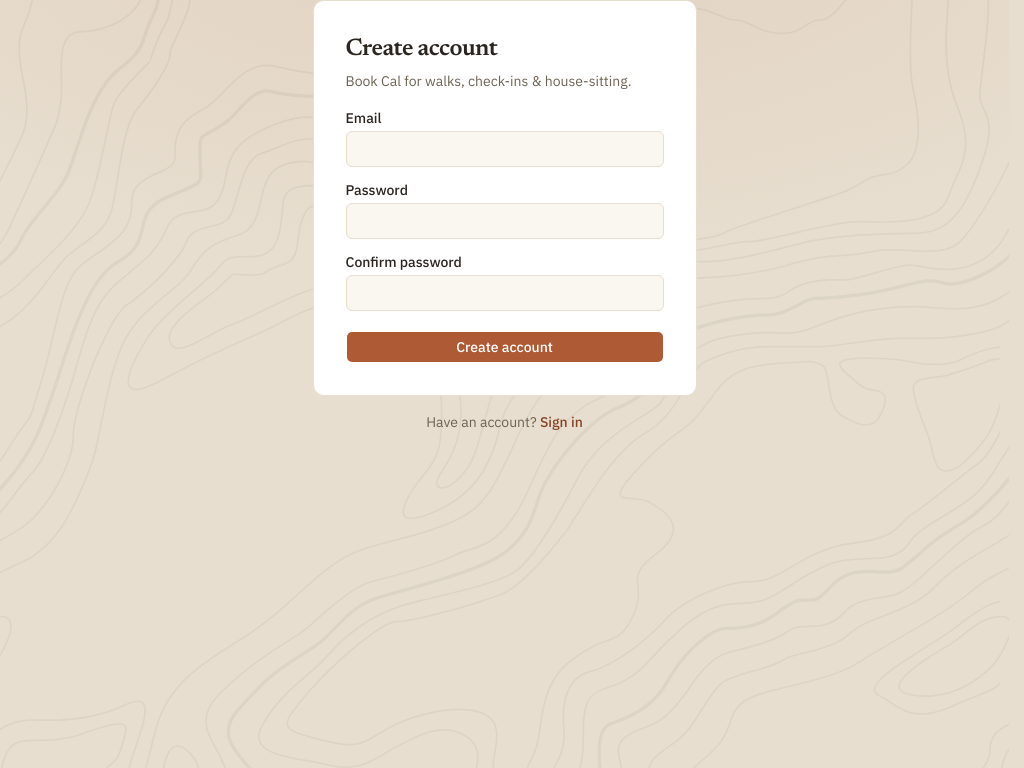
Scenario: SignupCard › shows the sent-email panel when no session comes back
Type "kiche@example.com" into the field labelled "Email". click: point(504, 149)
box: [346,131,664,167]
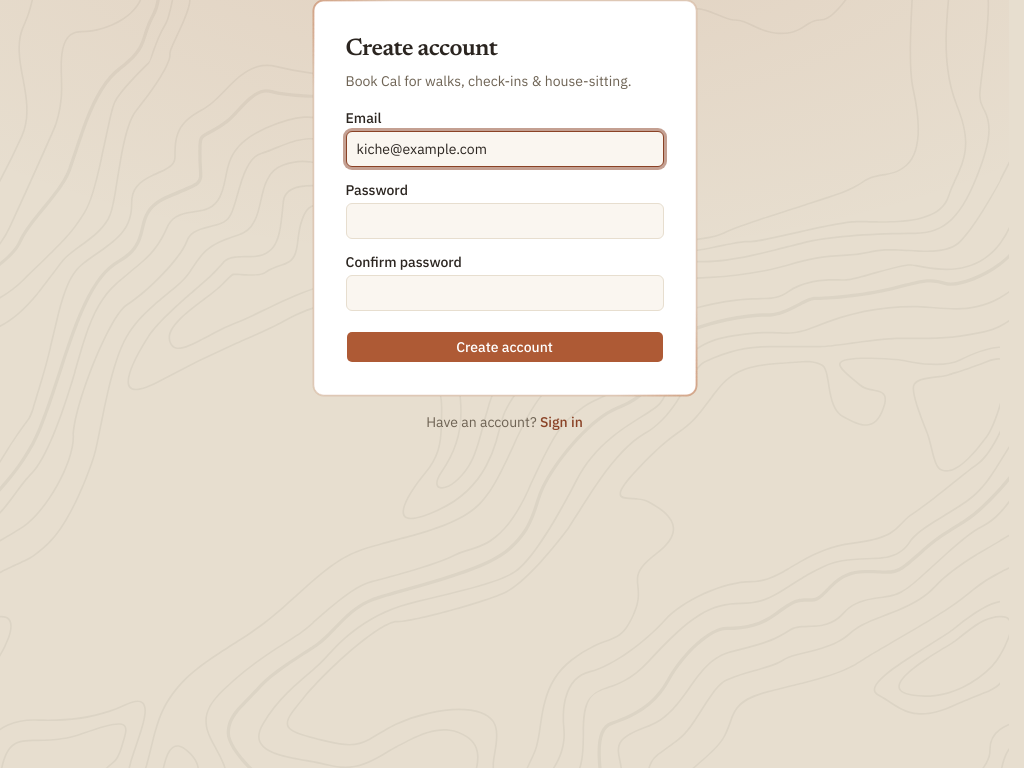
Type "password1" into the password field labelled "Password". click: point(504, 221)
box: [346,203,664,239]
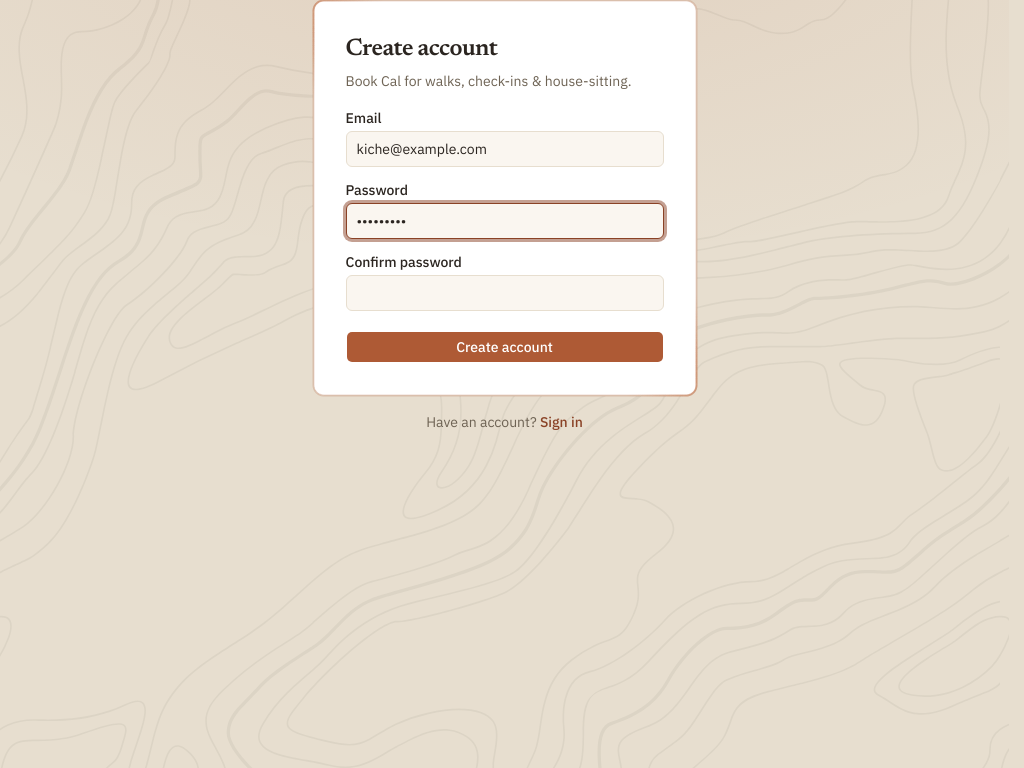
Type "password1" into the password field labelled "Confirm password". click: point(504, 293)
box: [346,275,664,311]
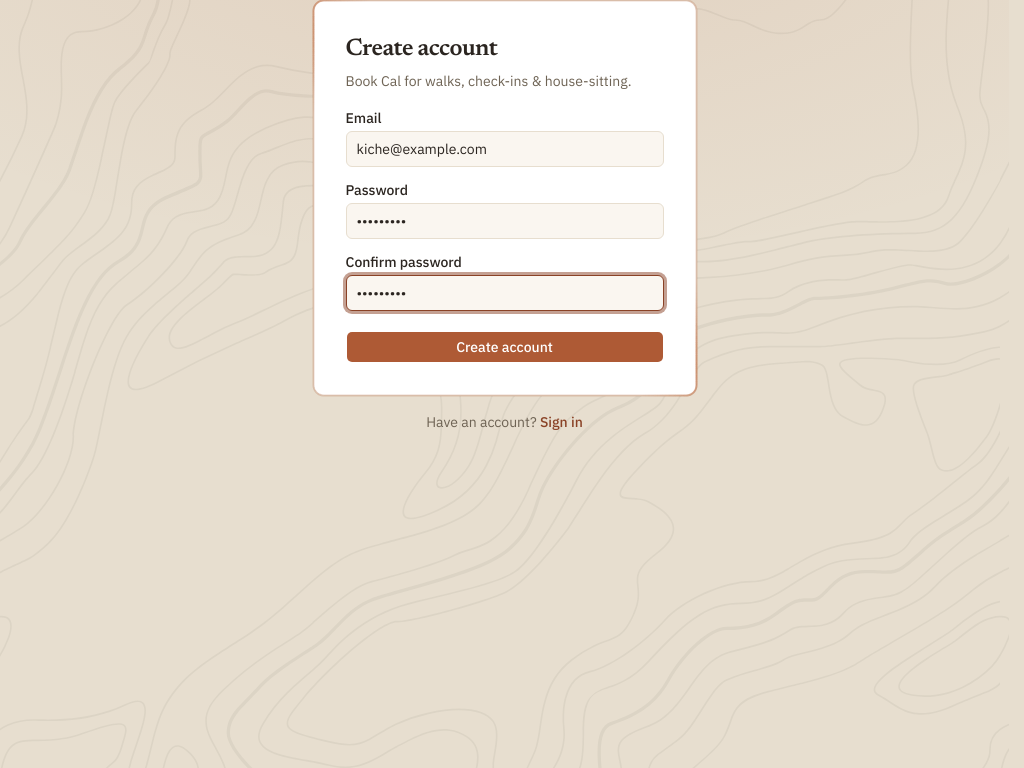
Click the button "Create account". click: point(504, 347)
box: [346,331,664,363]
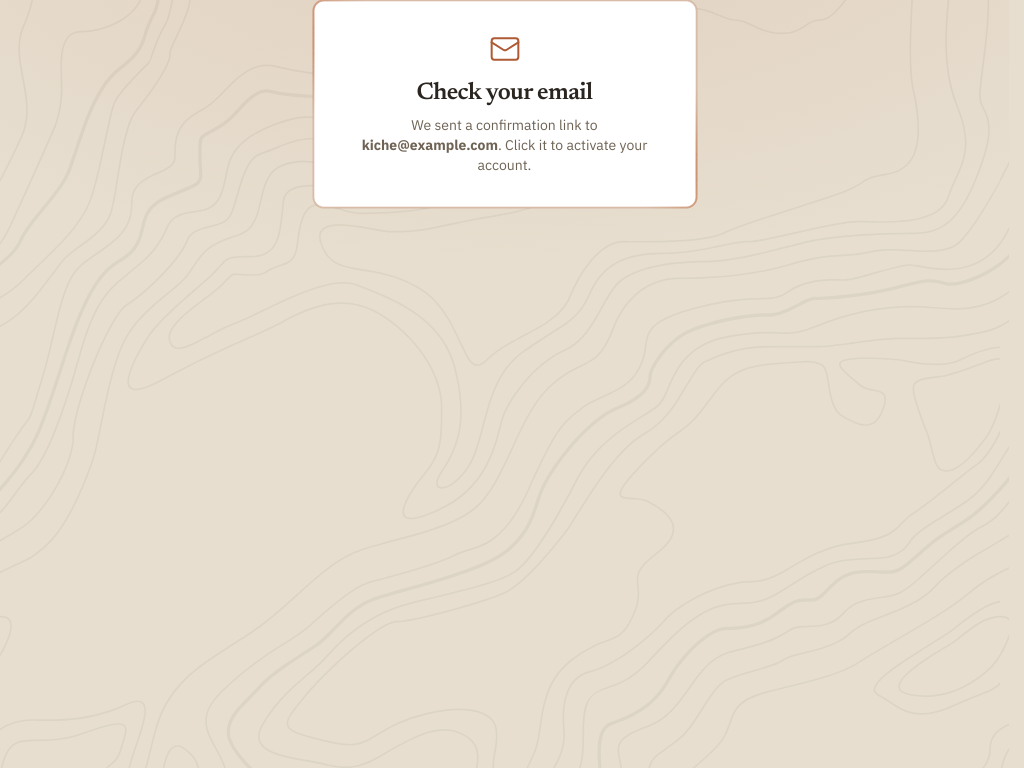
Result: the heading "Check your email" is shown at [416,81,592,105]
Result: the text "kiche@example.com" is shown at [362,136,498,154]
